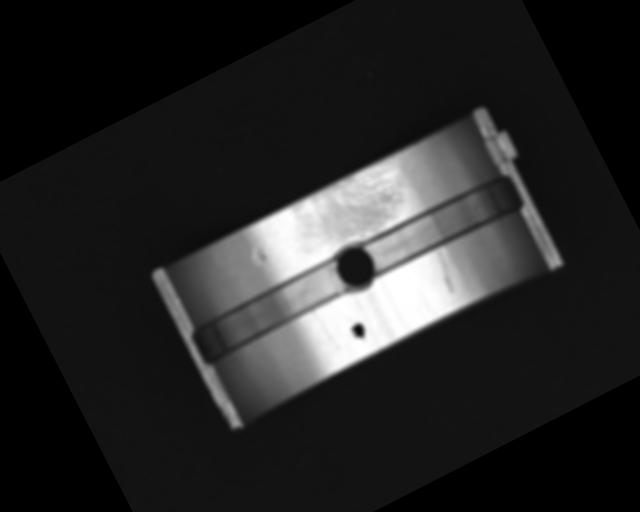blot: (347, 320, 371, 346)
bruise: (248, 244, 268, 266)
gap: (361, 168, 526, 279), (188, 256, 353, 366)
hole: (327, 237, 385, 300)
nick: (428, 246, 468, 296), (311, 307, 339, 351)
scratch: (278, 153, 422, 268)
